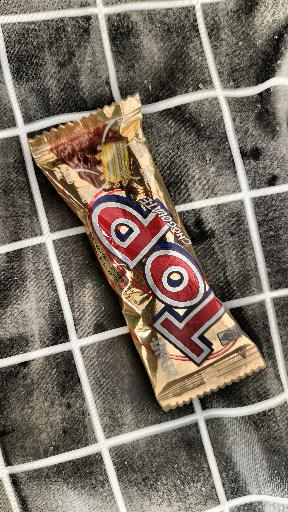top: (42, 83, 273, 413)
